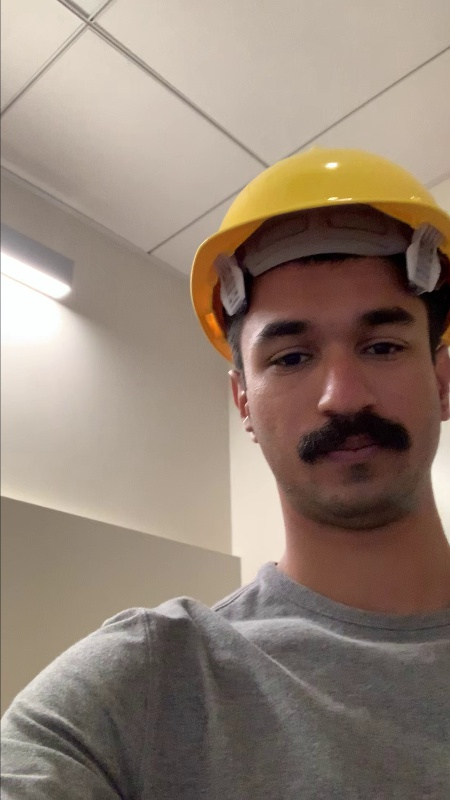helmet: (191, 149, 443, 213)
